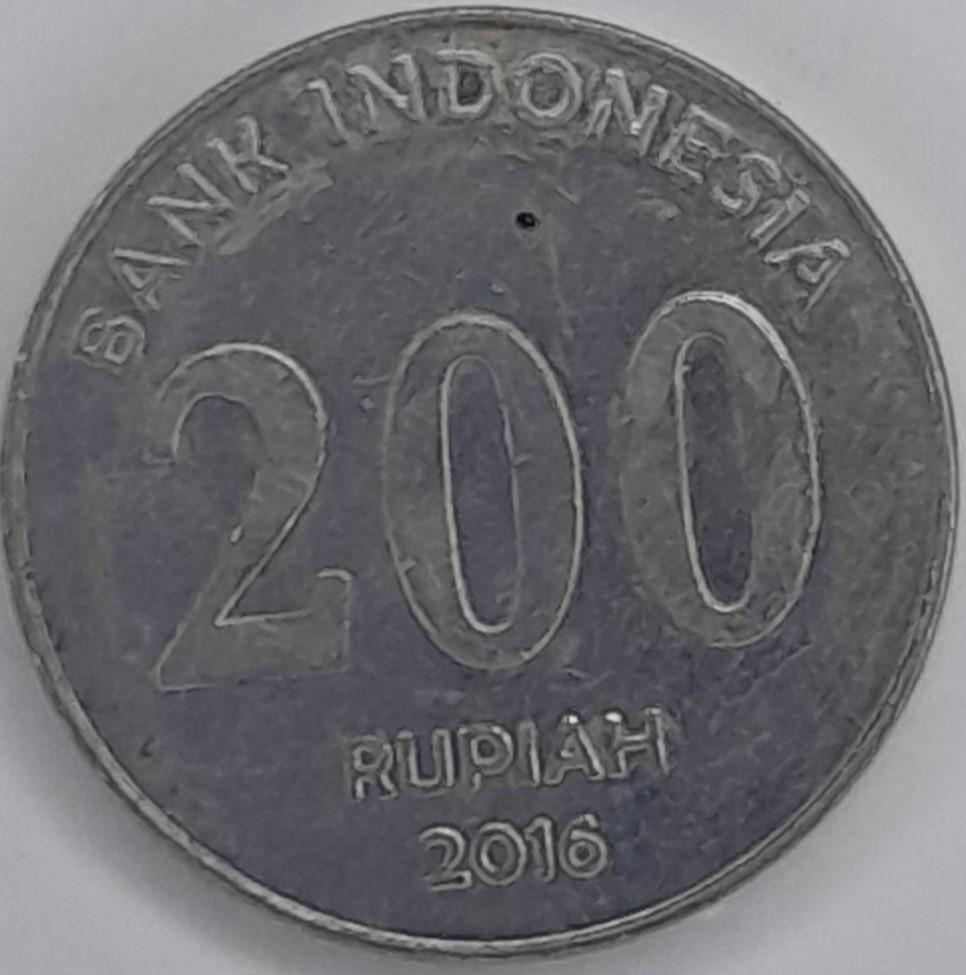coin_200_e2016: (0, 17, 966, 975)
